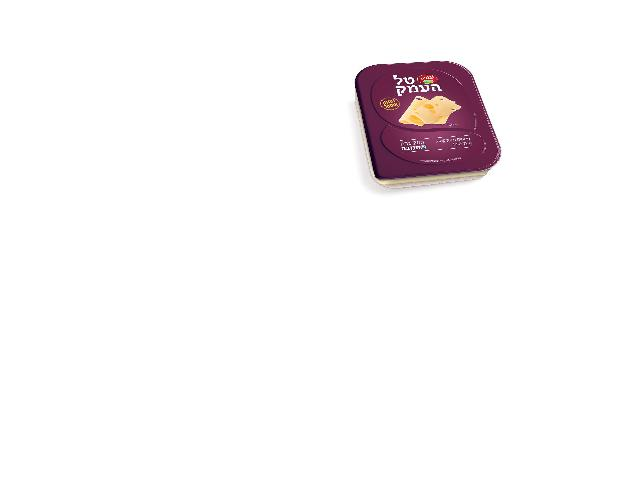cheese: (354, 59, 501, 187)
